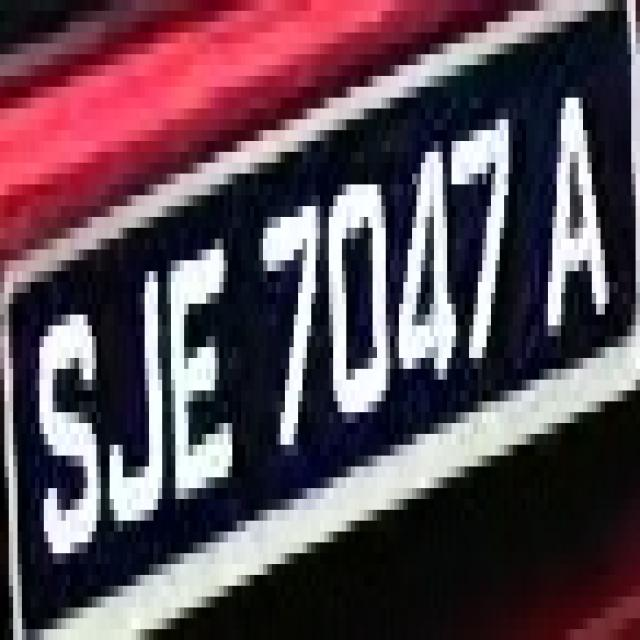0: (320, 163, 399, 423)
4: (377, 120, 465, 412)
7: (438, 98, 522, 368), (241, 184, 316, 466)
A: (539, 32, 614, 369)
E: (162, 206, 232, 510)
J: (96, 228, 162, 542)
S: (31, 271, 105, 586)
